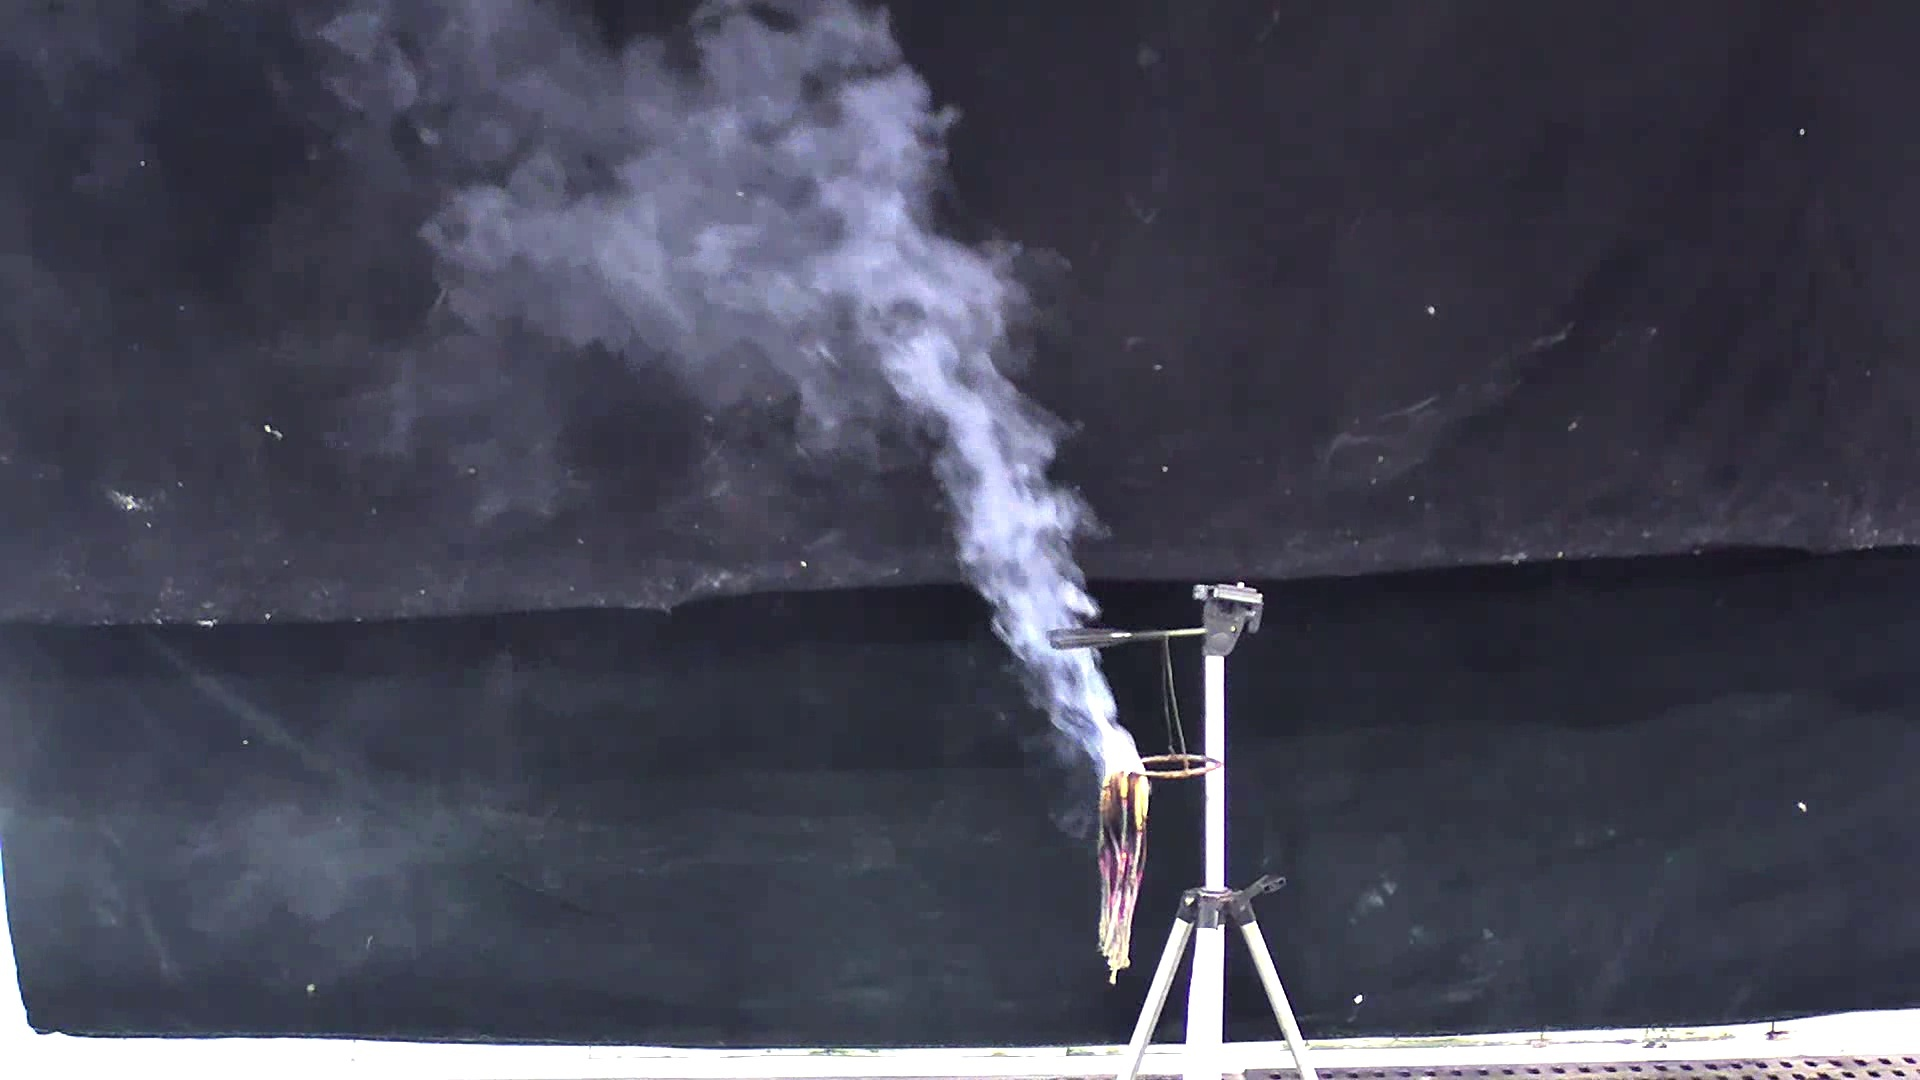smoke: (388, 5, 1182, 816)
